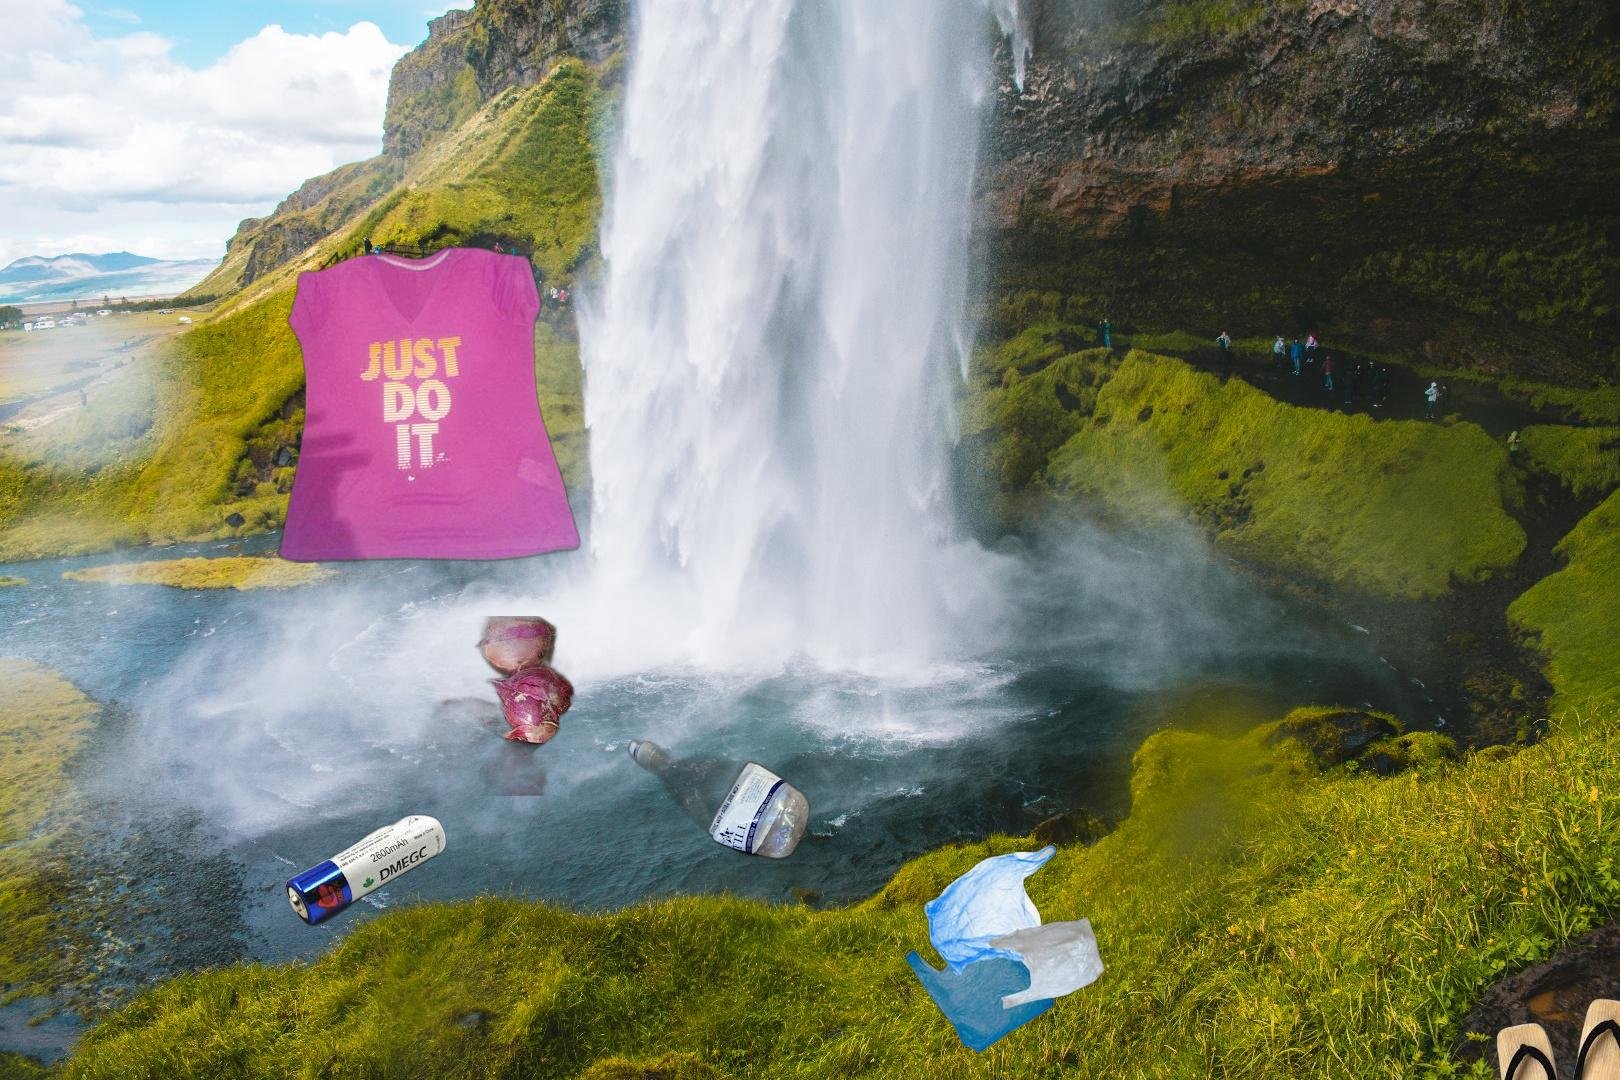battery: (283, 812, 450, 929)
biological: (337, 616, 617, 796)
clothes: (275, 242, 583, 567)
plastic-bag: (902, 843, 1109, 1056)
plastic-bottles: (626, 735, 812, 863)
shoes: (1465, 996, 1620, 1080)
